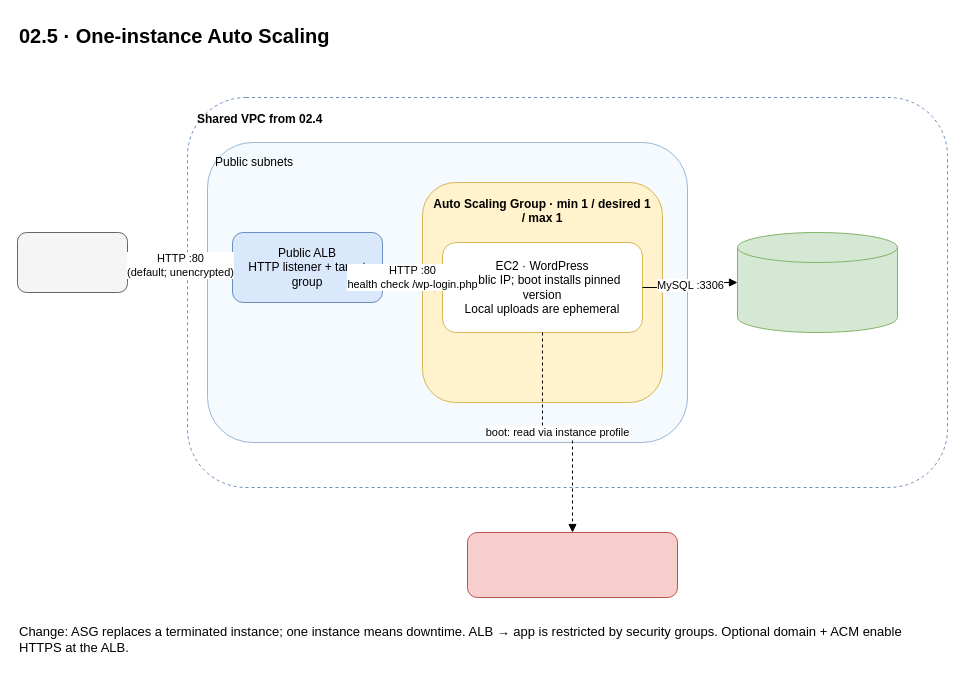
This 965x689 diagram has some shape labels left out. The shapes that lost their labels are listed below. From the top down, each one's centre as x and y in pixels, then its label:
At (x=72, y=262): "Browser".
At (x=817, y=282): "RDS MySQL posts persist (shared from 02.4)".
At (x=572, y=565): "Secrets Manager application + RDS master secrets".
